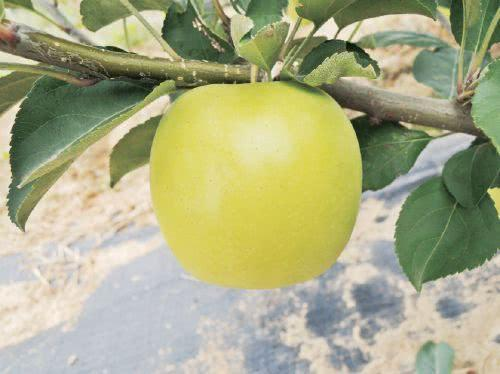apple: (145, 77, 363, 291)
